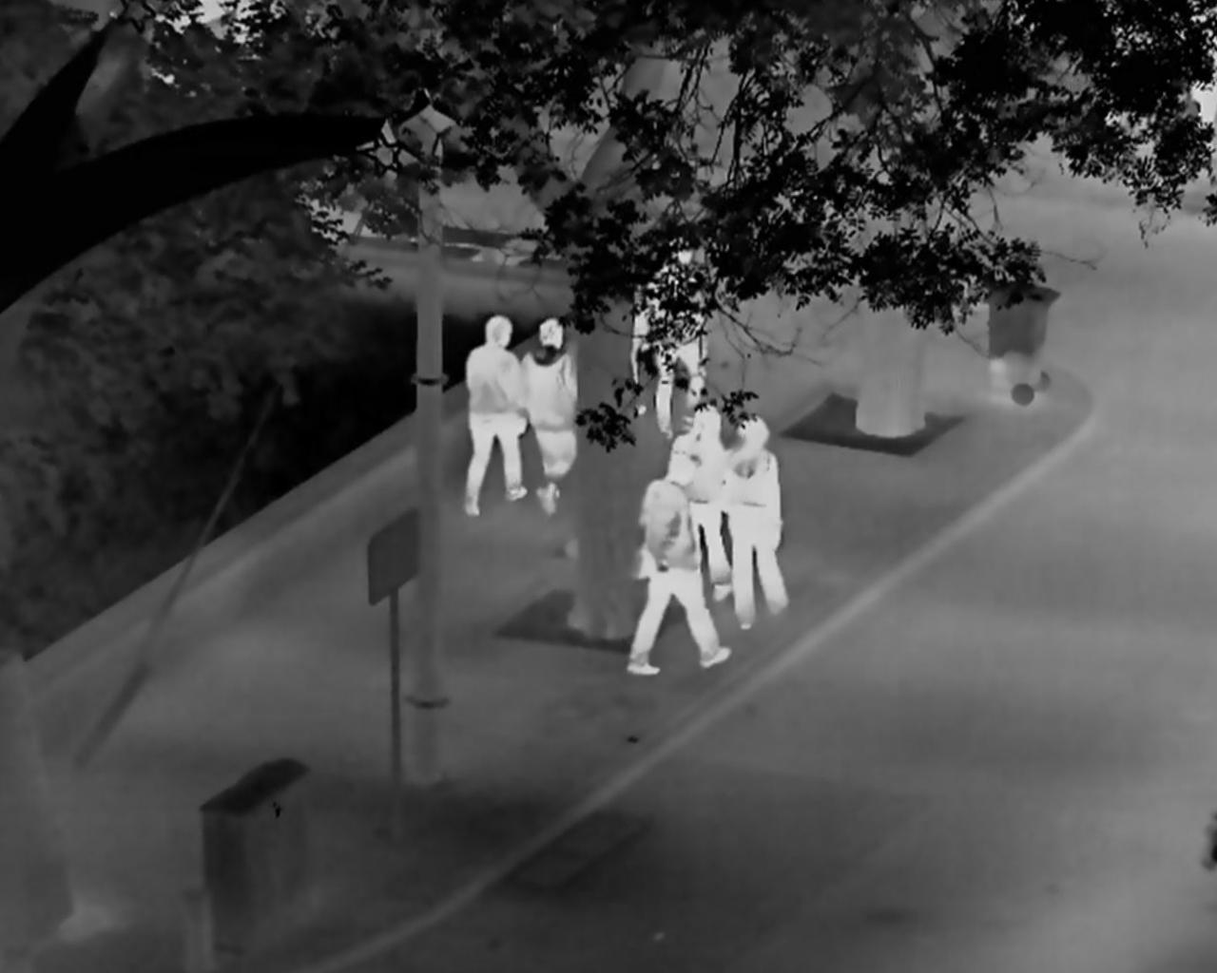person: (625, 450, 733, 675), (456, 313, 530, 516), (666, 404, 734, 602), (733, 411, 790, 631), (517, 315, 578, 515), (648, 238, 705, 436)
